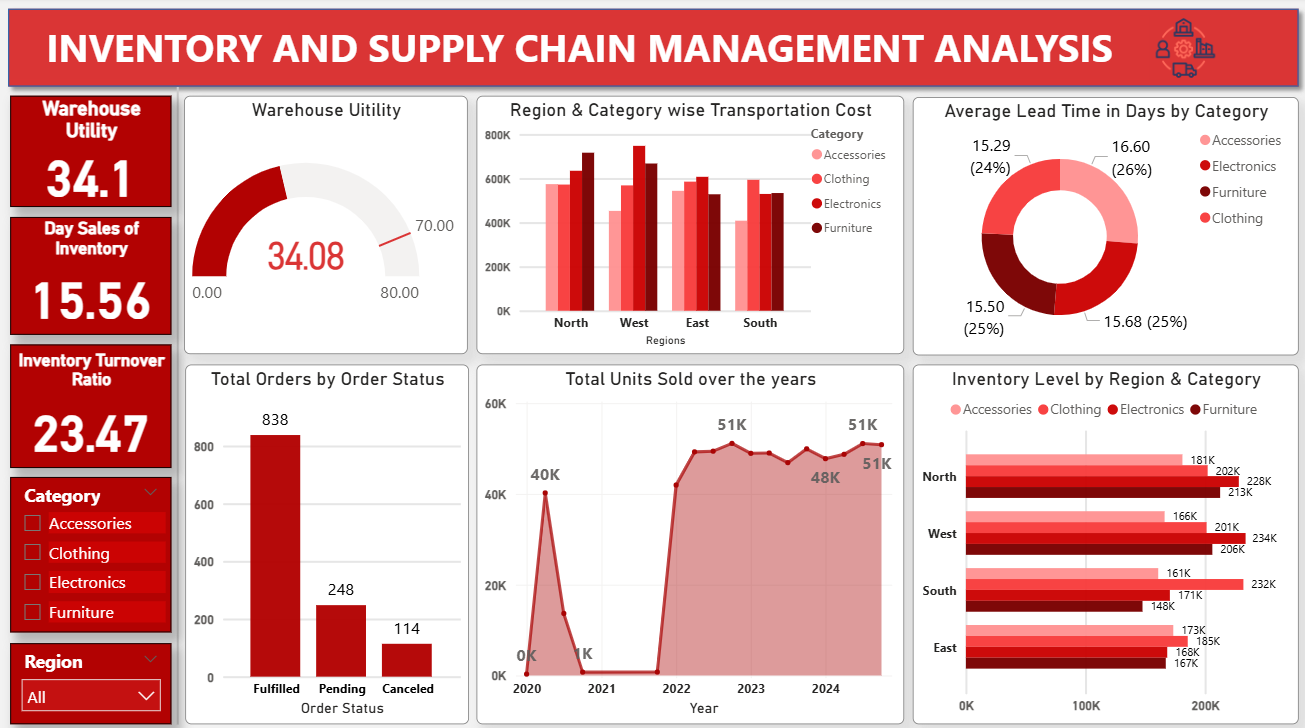

What the dashboard file says about the page in this screenshot:
{"tool":"powerbi","page":{"name":"Inventory & Warehouse Efficiency","canvas":[1280,720],"ordinal":0},"visuals":[{"type":"shape","box":[0,2.4,1271.7,94.2],"z":0},{"type":"textbox","box":[11,18.3,1114,62.4],"z":1000},{"type":"image","box":[1109.1,15.9,103.9,68.5],"z":2000},{"type":"shape","box":[168.8,88,12.2,623.6],"z":3000},{"type":"card","title":"Warehouse Utility","fields":{"Values":["Inventory_SupplyChain_Dataset.Warehouse Uitility"]},"box":[11,96.6,157.7,108.8],"z":4000},{"type":"card","title":"Day Sales of Inventory","fields":{"Values":["Inventory_SupplyChain_Dataset.Day Sales of Inventory"]},"box":[11,215.2,157.7,114.9],"z":5000},{"type":"card","title":"Inventory Turnover Ratio","fields":{"Values":["Inventory_SupplyChain_Dataset.Inventory Turnover Ratio"]},"box":[11,339.9,157.7,121.1],"z":6000},{"type":"slicer","fields":{"Values":["Inventory_SupplyChain_Dataset.Category"]},"box":[11,469.6,157.7,151.6],"z":7000},{"type":"slicer","fields":{"Values":["Inventory_SupplyChain_Dataset.Region"]},"box":[11,632.2,157.7,79.5],"z":8000},{"type":"gauge","fields":{"Y":["Inventory_SupplyChain_Dataset.Warehouse Uitility"]},"box":[181,96.6,277.6,253.1],"z":9000},{"type":"clusteredColumnChart","title":"Region & Category wise Transportation Cost","fields":{"Y":["Sum(Inventory_SupplyChain_Dataset.Transportation Cost)"],"Category":["Inventory_SupplyChain_Dataset.Region"],"Series":["Inventory_SupplyChain_Dataset.Category"]},"box":[467.1,96.6,418.2,253.1],"z":10000},{"type":"lineChart","title":"Total Units Sold over the years","fields":{"Y":["Sum(Inventory_SupplyChain_Dataset.Units Sold)"],"Category":["Inventory_SupplyChain_Dataset.Date.Variation.Date Hierarchy.Year","Inventory_SupplyChain_Dataset.Date.Variation.Date Hierarchy.Quarter"]},"box":[467.1,359.5,418.2,352.2],"z":11000},{"type":"donutChart","title":"Average Lead Time in Days by Category","fields":{"Y":["Avg(Inventory_SupplyChain_Dataset.Lead Time in Days)"],"Category":["Inventory_SupplyChain_Dataset.Category"]},"box":[893.9,97.8,377.9,253.1],"z":12000},{"type":"columnChart","title":"Total Orders by Order Status","fields":{"Category":["Inventory_SupplyChain_Dataset.Order Status"],"Y":["CountNonNull(Inventory_SupplyChain_Dataset.Backorder)"]},"box":[182.2,359.5,277.6,352.2],"z":13000},{"type":"clusteredBarChart","title":"Inventory Level by Region & Category","fields":{"Y":["Sum(Inventory_SupplyChain_Dataset.Inventory Level)"],"Category":["Inventory_SupplyChain_Dataset.Region"],"Series":["Inventory_SupplyChain_Dataset.Category"]},"box":[893.9,359.5,377.9,352.2],"z":14000},{"type":"actionButton","box":[1222.8,662.8,57.5,48.9],"z":15000}]}

Visuals, with their boxes in screenshot pixels (x1, y1, x2, y2), scaled from the page's 1280x720 canvas onto the 1305x728 screenshot:
shape: [0,2,1297,98]
textbox: [11,19,1147,82]
image: [1131,16,1237,85]
shape: [172,89,185,720]
"Warehouse Utility" card: [11,98,172,208]
"Day Sales of Inventory" card: [11,218,172,334]
"Inventory Turnover Ratio" card: [11,344,172,466]
slicer - Inventory_SupplyChain_Dataset.Category: [11,475,172,628]
slicer - Inventory_SupplyChain_Dataset.Region: [11,639,172,720]
gauge - Inventory_SupplyChain_Dataset.Warehouse Uitility: [185,98,468,354]
"Region & Category wise Transportation Cost" clusteredColumnChart: [476,98,903,354]
"Total Units Sold over the years" lineChart: [476,363,903,720]
"Average Lead Time in Days by Category" donutChart: [911,99,1297,355]
"Total Orders by Order Status" columnChart: [186,363,469,720]
"Inventory Level by Region & Category" clusteredBarChart: [911,363,1297,720]
actionButton: [1247,670,1304,720]
